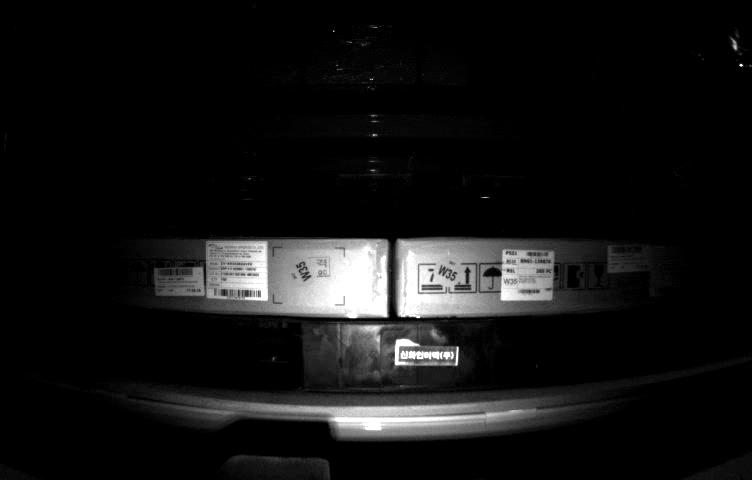True Barcode: (499, 243, 554, 300)
